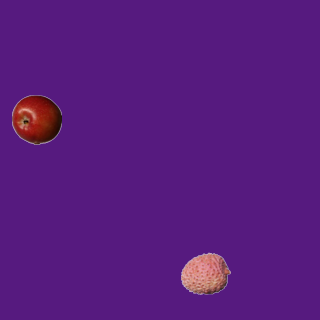Apple Braeburn: (11, 94, 61, 144)
Lychee: (180, 248, 230, 298)
